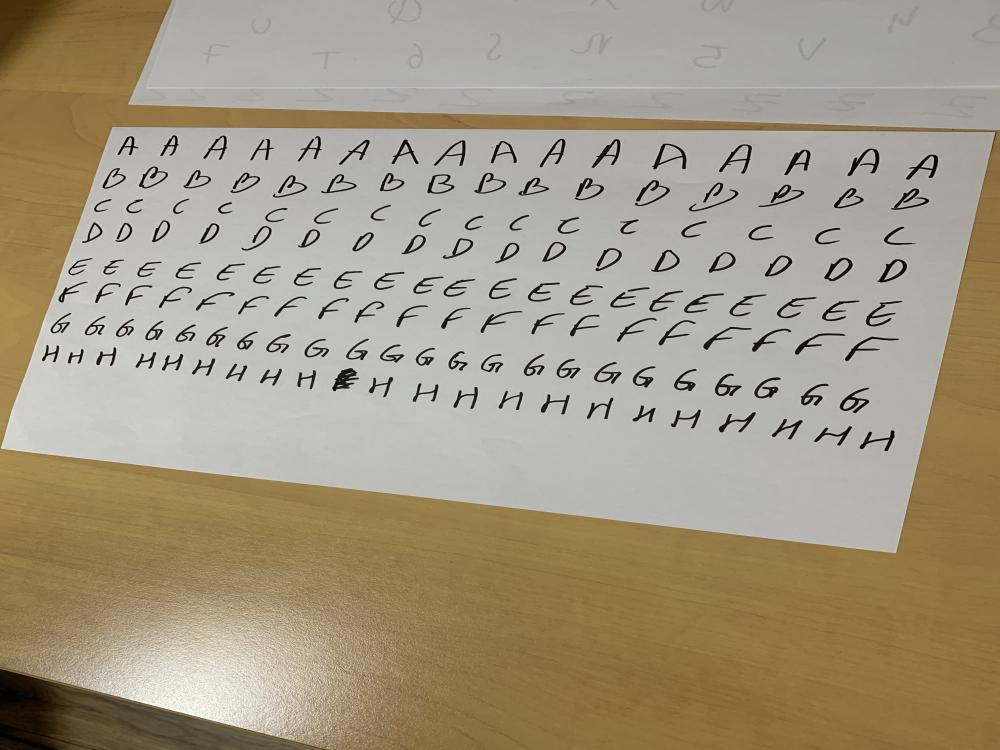A: (583, 135, 628, 173), (645, 138, 695, 172), (712, 140, 758, 174), (774, 144, 819, 178), (533, 134, 572, 170), (844, 143, 882, 177), (384, 138, 425, 166), (337, 136, 375, 166), (432, 139, 471, 167), (905, 151, 942, 180), (486, 138, 524, 166), (294, 132, 328, 162), (198, 132, 230, 162), (248, 133, 274, 167), (158, 132, 181, 158), (114, 134, 140, 157)
B: (688, 181, 740, 213), (631, 176, 672, 210), (759, 182, 807, 210), (890, 187, 933, 213), (319, 172, 362, 197), (473, 170, 511, 198), (271, 173, 308, 201), (572, 176, 608, 203), (96, 163, 128, 193), (830, 184, 868, 209), (140, 164, 172, 193), (426, 172, 458, 197), (374, 172, 410, 194), (229, 171, 262, 195), (518, 176, 550, 200), (180, 168, 213, 190)
C: (876, 223, 928, 248), (811, 224, 850, 247), (546, 214, 588, 235), (743, 221, 780, 244), (678, 219, 716, 241), (606, 218, 652, 236), (306, 206, 347, 226), (412, 206, 446, 230), (505, 210, 540, 232), (368, 202, 402, 224), (168, 195, 200, 217), (259, 205, 294, 224), (90, 195, 120, 217), (122, 196, 149, 216), (212, 200, 242, 218), (461, 214, 490, 232)
D: (814, 253, 859, 285), (645, 246, 688, 277), (752, 252, 798, 278), (704, 246, 740, 278), (239, 223, 277, 252), (535, 238, 574, 266), (590, 243, 626, 273), (875, 257, 913, 285), (346, 229, 381, 255), (489, 238, 524, 264), (192, 220, 223, 248), (396, 232, 430, 256), (442, 236, 476, 260), (147, 219, 175, 246), (295, 228, 327, 250), (80, 222, 108, 247), (111, 220, 134, 245)
E: (863, 298, 912, 328), (824, 298, 868, 328), (567, 280, 612, 309), (777, 292, 817, 322), (171, 257, 210, 285), (610, 284, 649, 312), (684, 292, 726, 318), (728, 291, 767, 318), (370, 266, 410, 292), (488, 274, 522, 304), (329, 266, 368, 292), (249, 264, 288, 289), (293, 262, 326, 291), (442, 277, 480, 301), (130, 258, 170, 280), (650, 286, 682, 313), (410, 274, 446, 297), (214, 260, 245, 286), (528, 278, 560, 303), (98, 255, 133, 277), (64, 255, 94, 279)
F: (695, 320, 752, 352), (842, 336, 901, 366), (608, 314, 665, 344), (791, 330, 852, 356), (655, 317, 704, 349), (562, 310, 610, 340), (752, 324, 796, 356), (308, 294, 355, 322), (475, 310, 524, 336), (84, 280, 130, 307), (525, 311, 571, 338), (51, 276, 92, 306), (269, 294, 316, 320), (390, 302, 437, 328), (153, 283, 198, 310), (192, 289, 240, 314), (351, 296, 392, 324), (116, 282, 156, 310), (436, 305, 477, 331), (234, 294, 275, 318)
G: (835, 382, 883, 415), (710, 370, 754, 404), (339, 335, 380, 363), (473, 350, 512, 377), (750, 373, 786, 402), (553, 355, 587, 383), (519, 352, 554, 379), (672, 366, 702, 397), (442, 344, 475, 372), (375, 342, 412, 366), (592, 360, 625, 386), (628, 364, 661, 390), (233, 328, 263, 354), (300, 336, 332, 360), (801, 381, 829, 408), (414, 344, 442, 370), (171, 320, 200, 344), (46, 311, 74, 335), (142, 319, 171, 342), (204, 323, 230, 348), (266, 331, 293, 355), (114, 316, 143, 338), (82, 313, 108, 337)
H: (856, 424, 904, 453), (580, 392, 619, 425), (716, 410, 760, 436), (812, 422, 854, 448), (766, 415, 806, 442), (668, 406, 710, 431), (492, 390, 531, 414), (540, 391, 572, 419), (128, 350, 163, 375), (363, 374, 396, 400), (410, 380, 442, 406), (453, 386, 483, 412), (256, 365, 287, 389), (224, 360, 253, 385), (631, 403, 661, 426), (292, 369, 322, 391), (42, 342, 66, 368), (94, 348, 120, 372), (160, 351, 186, 375), (191, 358, 219, 378), (64, 346, 88, 366)
